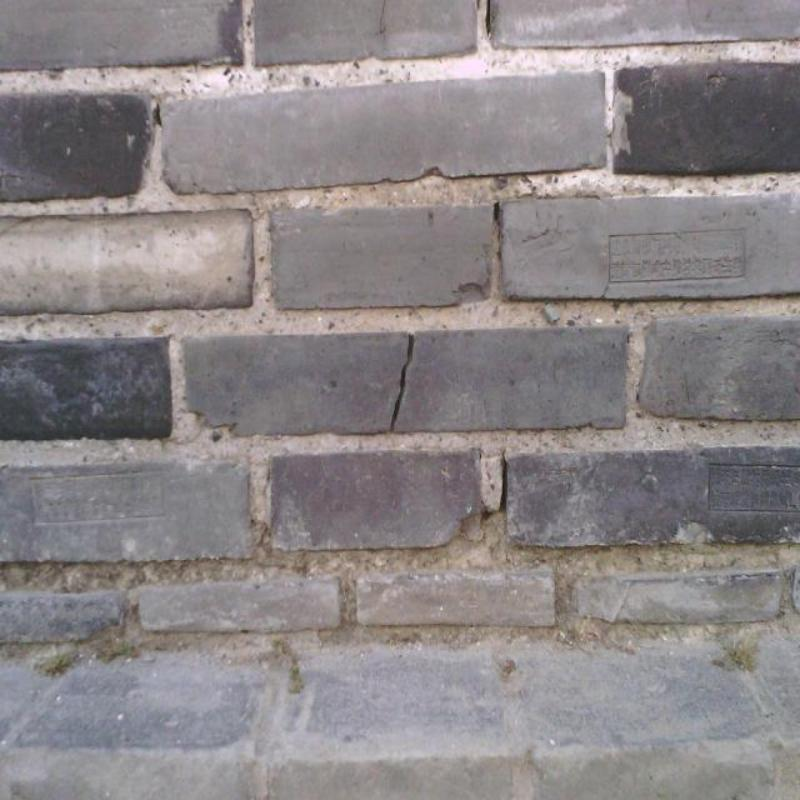crack: (389, 333, 414, 429), (499, 453, 506, 512), (380, 1, 387, 34), (485, 0, 491, 34), (154, 104, 162, 126), (494, 204, 499, 220)
